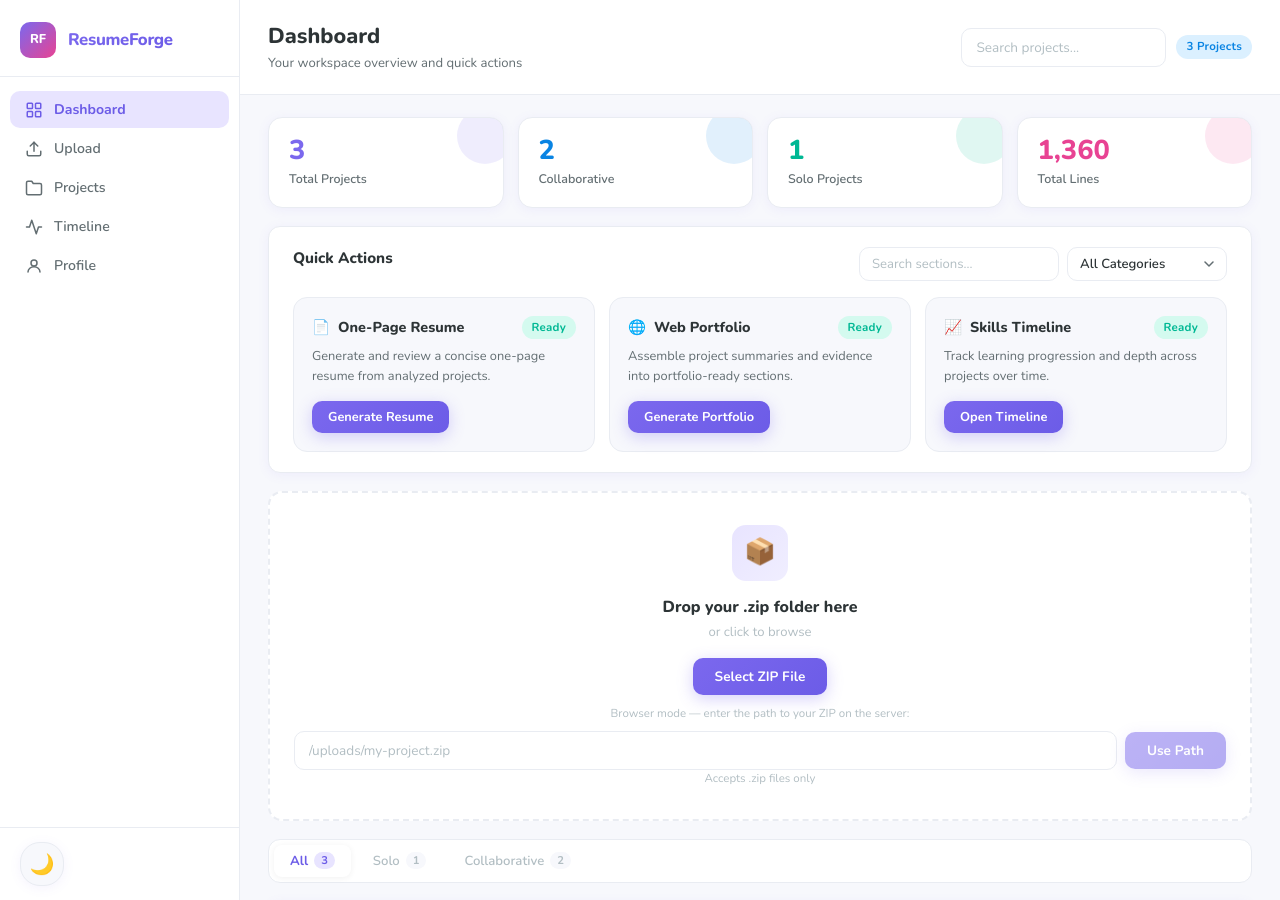
Test: App Layout › opens the portfolio modal with grouped profile fields and clear selection state
Check: the text "3 projects" is shown, box [1176,35,1252,59]
Click the button "Generate Portfolio": click(699, 417) [628,401,770,433]
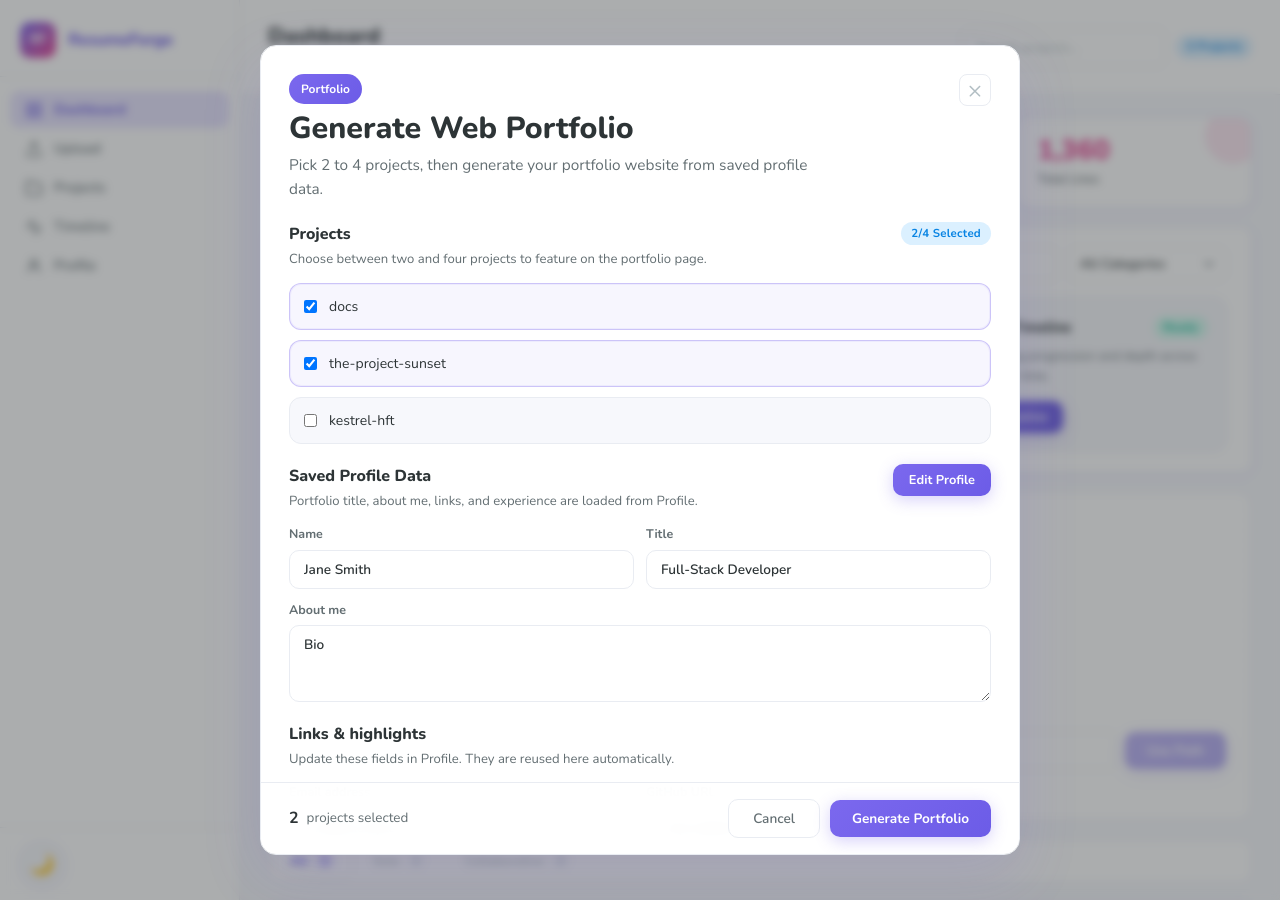
Check: the dialog is shown
Check: the heading "Generate Web Portfolio" is shown, box [289,107,634,149]
Check: the text "Choose between two and four projects to feature on the portfolio page." is shown, box [289,250,707,269]
